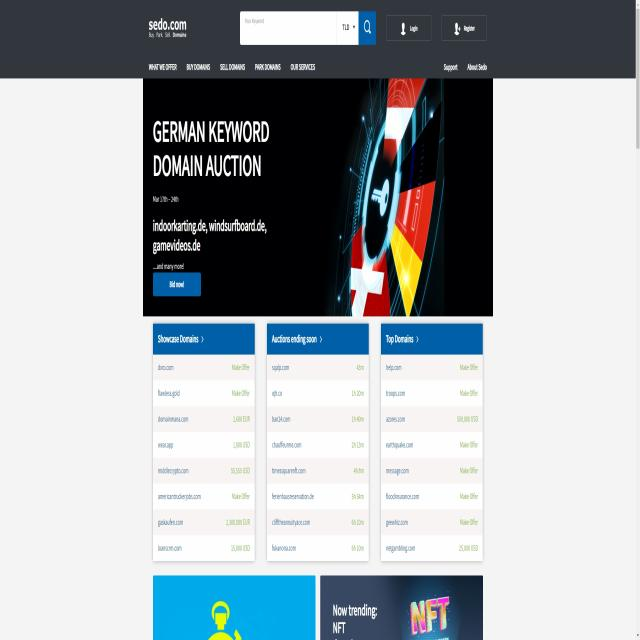menu-bar: (384, 13, 489, 47)
search: (238, 9, 377, 50)
tab-bar: (147, 57, 318, 75)
